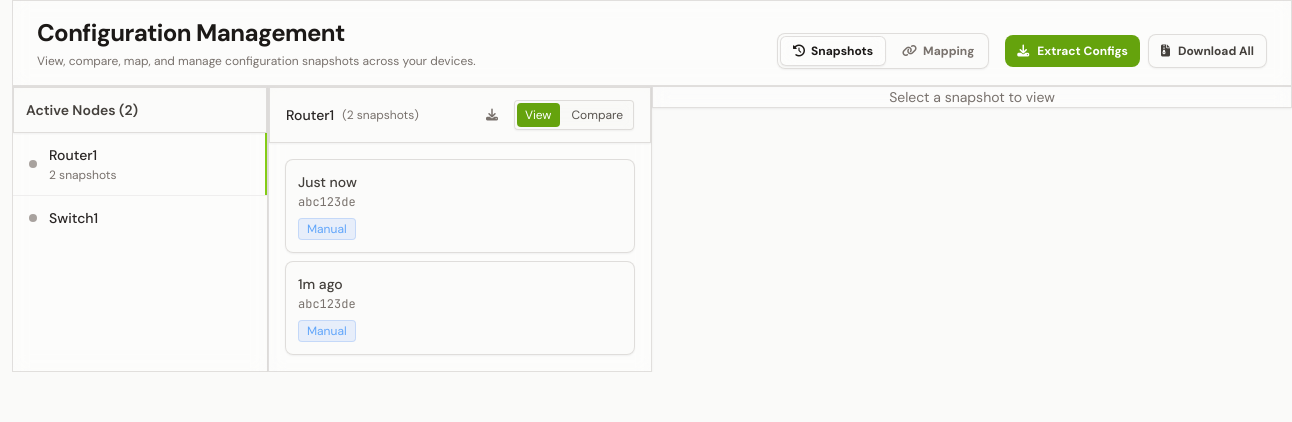
ConfigsView › View/Compare mode toggle › switches to compare mode when Compare button is clicked
Step 1. Click the button "Compare" → x=597, y=115, box [564,103,631,127]
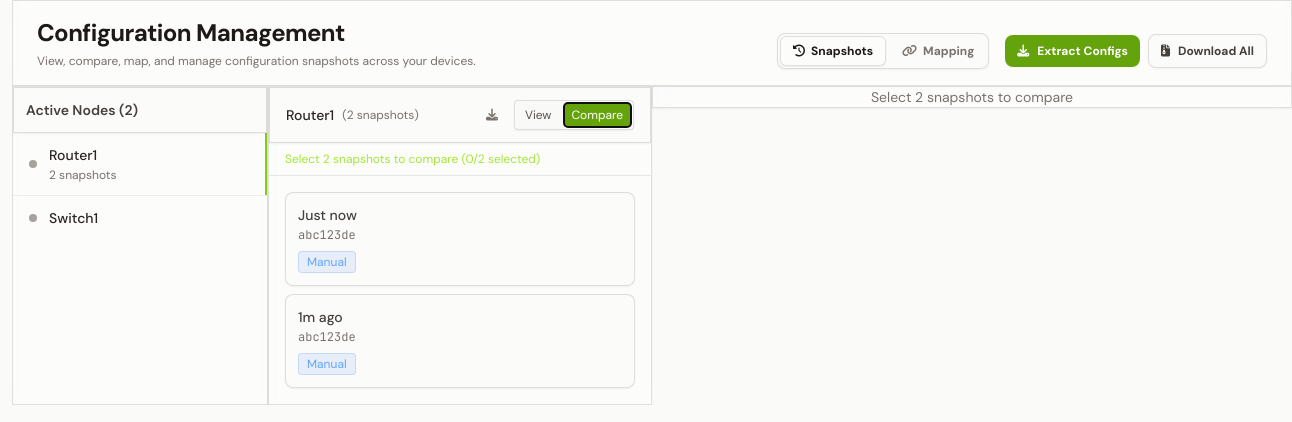
Check: the text "Select 2 snapshots to compare (0/2 selected)" is shown, box [285,151,540,167]
